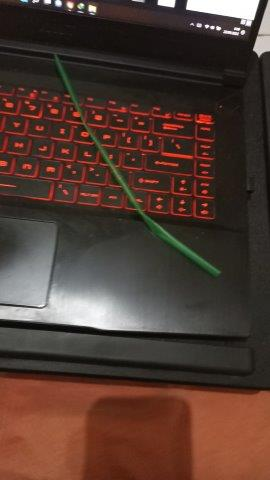sedotan: (55, 54, 219, 274)
